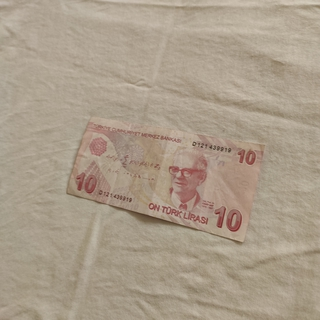10TLBack: (66, 121, 263, 244)
